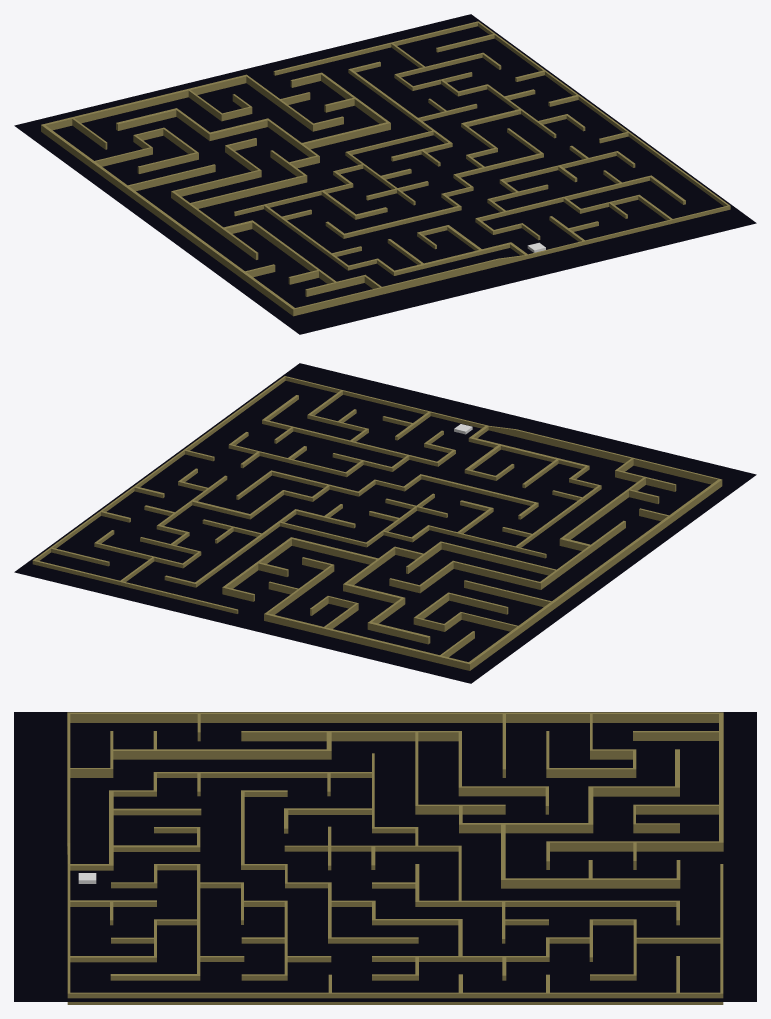
File: лабиринт.fbx
The picture shows the model from 3 angles, top to bottom: view 1: azimuth 30°, elevation 25°; view 2: azimuth 150°, elevation 25°; view 3: azimuth 270°, elevation 25°; orthographic projection. The views are drawn at different scales.
Parts seen in each view (by area): view 1: Plane.001, Plane; view 2: Plane.001, Plane; view 3: Plane.001, Plane.
Boxes of the visible parts, bbox=[...] form: Plane.001: bbox=[14, 14, 756, 334]; Plane: bbox=[41, 21, 730, 316]; Plane.001: bbox=[14, 363, 756, 683]; Plane: bbox=[32, 376, 722, 670]; Plane.001: bbox=[14, 712, 756, 1001]; Plane: bbox=[67, 712, 723, 1004].
Bounding box in the file's own units: 521 × 12.76 × 564.
